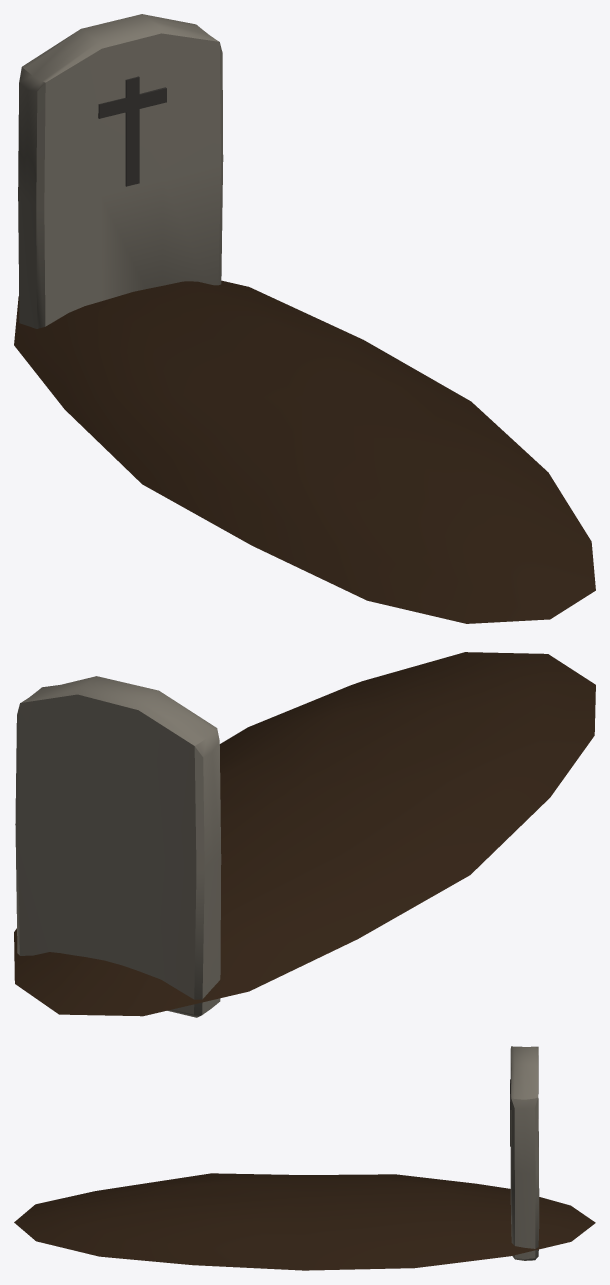
Rendered from grabstein.glb.
3 views of the same model, one above another, from view 1: azimuth 30°, elevation 25°; view 2: azimuth 150°, elevation 25°; view 3: azimuth 270°, elevation 25° (orthographic). The views are drawn at different scales.
Parts seen in each view (by area): view 1: grabstein; view 2: grabstein; view 3: grabstein.
Boxes of the visible parts, left/top/right/bottom form: grabstein: left=14, top=14, right=595, bottom=623; grabstein: left=14, top=652, right=595, bottom=1017; grabstein: left=14, top=1046, right=595, bottom=1270.
Bounding box in the file's own units: 0.9752 × 0.8511 × 2.5.
